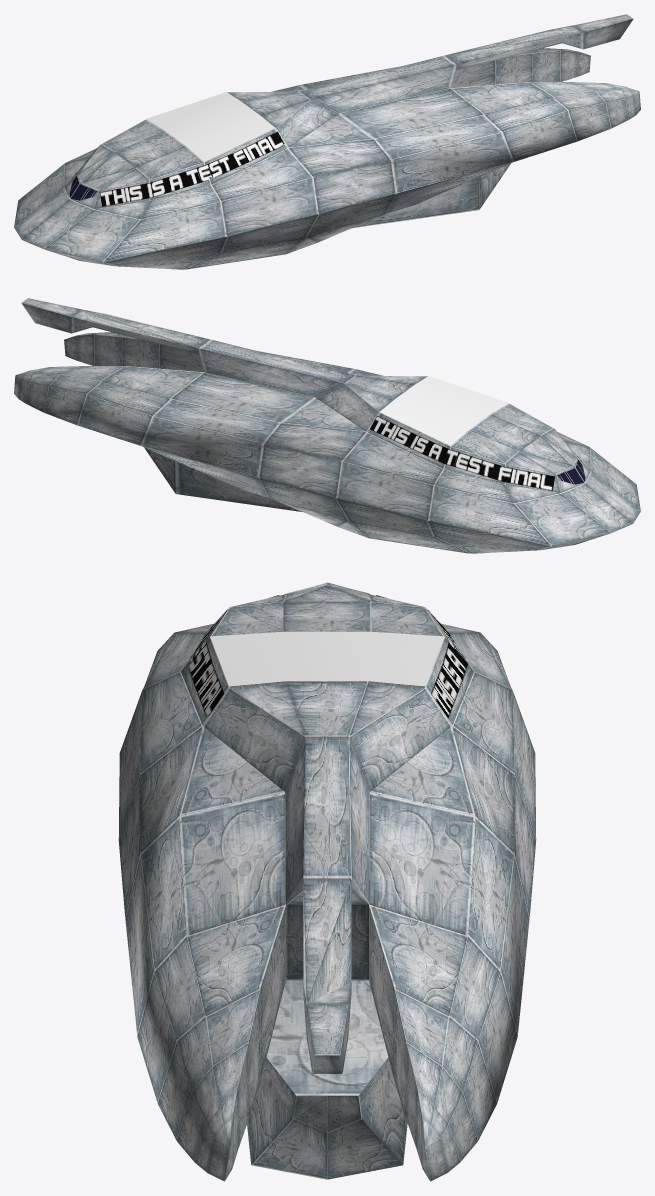
File: sjh33.obj
3 views of the same model, one above another, from view 1: azimuth 30°, elevation 25°; view 2: azimuth 150°, elevation 25°; view 3: azimuth 270°, elevation 25° (orthographic). The views are drawn at different scales.
Parts seen in each view (by area): view 1: LINE020, DECAL030.002, NAMEDECAL0.002, COCKPIT_EXP030; view 2: LINE020, DECAL030.002, NAMEDECAL0.002, COCKPIT_EXP030; view 3: LINE020, DECAL030.002, NAMEDECAL0.002.
Boxes of the visible parts, x1,y1,x2,y2 form: LINE020: [14, 14, 640, 269]; DECAL030.002: [146, 92, 274, 161]; NAMEDECAL0.002: [71, 131, 284, 206]; COCKPIT_EXP030: [69, 176, 97, 201]; LINE020: [14, 298, 640, 553]; DECAL030.002: [380, 376, 508, 445]; NAMEDECAL0.002: [370, 416, 585, 490]; COCKPIT_EXP030: [557, 460, 585, 485]; LINE020: [118, 585, 536, 1181]; DECAL030.002: [210, 631, 444, 686]; NAMEDECAL0.002: [188, 595, 467, 718].
Size of the model in its own units: 68.22 by 15.71 by 20.26.
5 materials, 5 textured.
